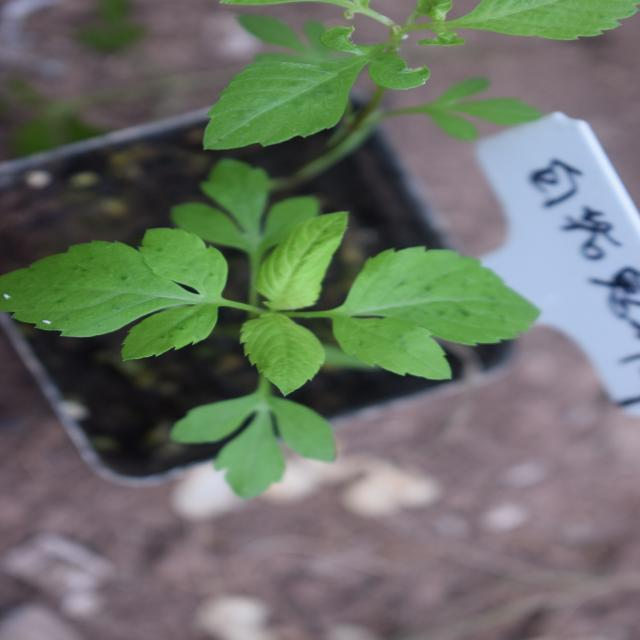Bidens pilosa: (178, 115, 486, 632)
